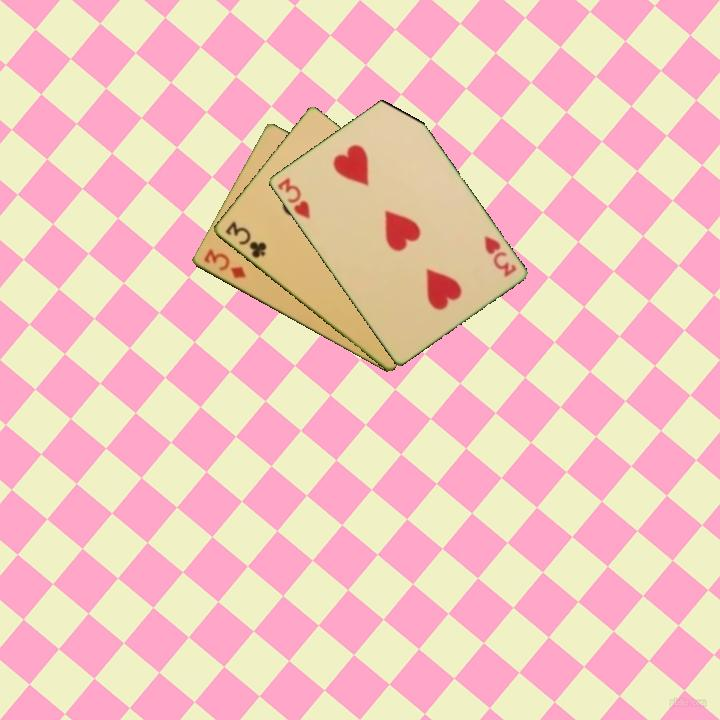3c: (222, 218, 269, 261)
3d: (200, 245, 249, 282)
3h: (273, 174, 313, 222), (480, 232, 519, 280)
